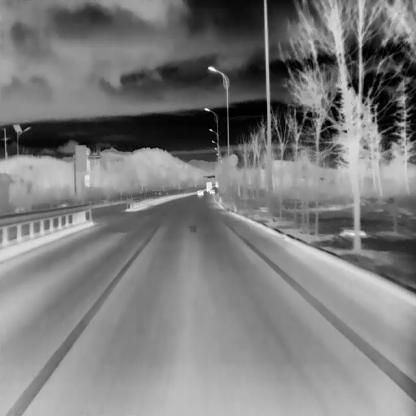car: (197, 189, 203, 195), (209, 188, 214, 193)
truck: (206, 180, 212, 191)
